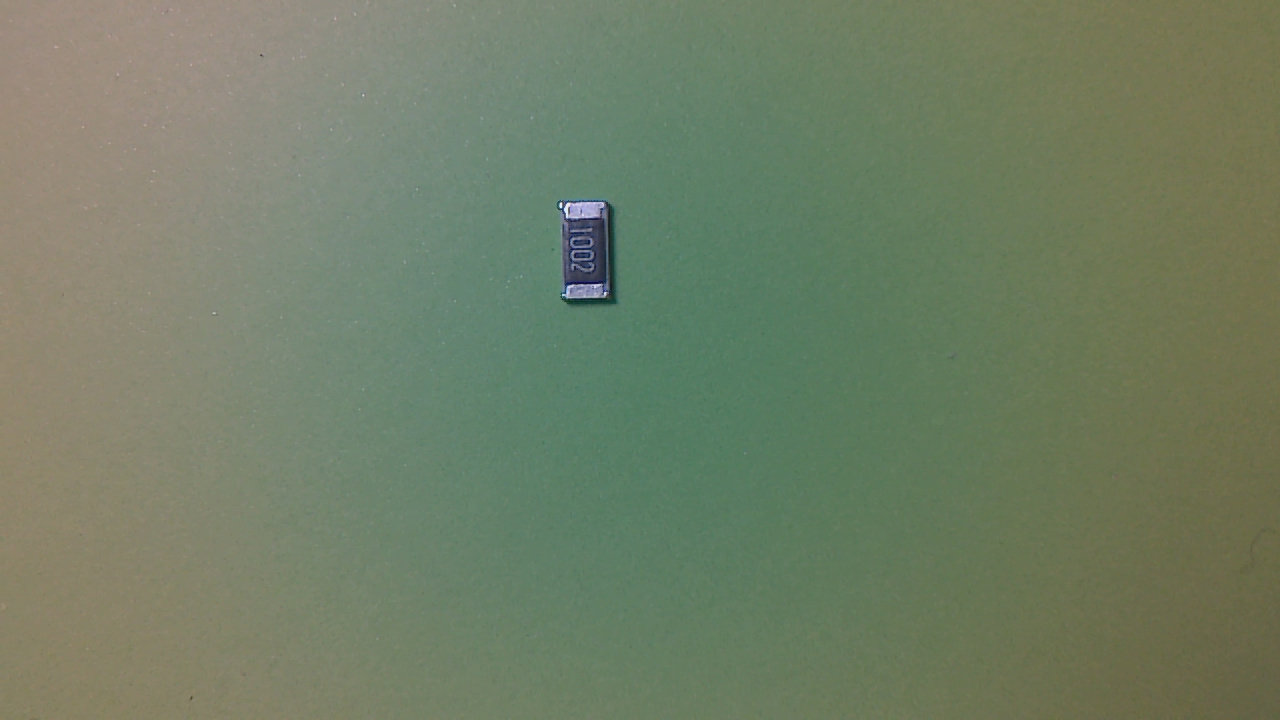Resistor: (558, 200, 624, 318)
